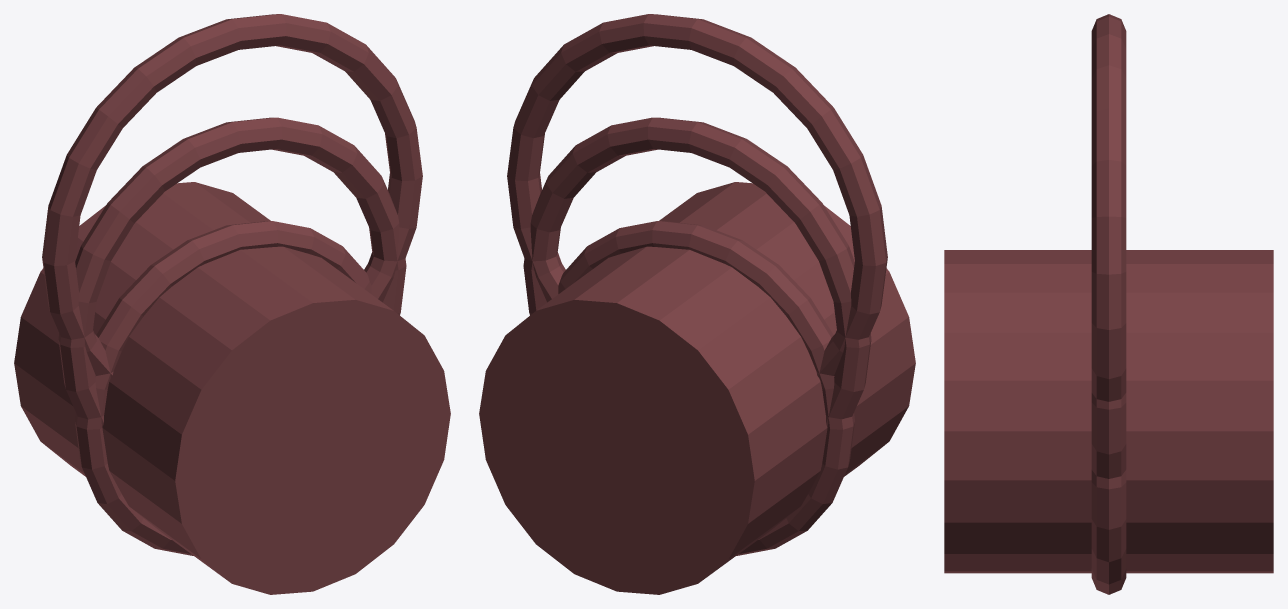
File: food_032.glb
3 renders of one model, left to right at view 1: azimuth 30°, elevation 25°; view 2: azimuth 150°, elevation 25°; view 3: azimuth 270°, elevation 25°, orthographic. The views are drawn at different scales.
Parts seen in each view (by area): view 1: world; view 2: world; view 3: world.
Boxes of the visible parts, x1,y1,x2,y2 form: world: (14, 14, 450, 594); world: (479, 14, 915, 594); world: (944, 14, 1273, 594).
Bounding box in the file's own units: 1.15 × 1.55 × 0.85.
